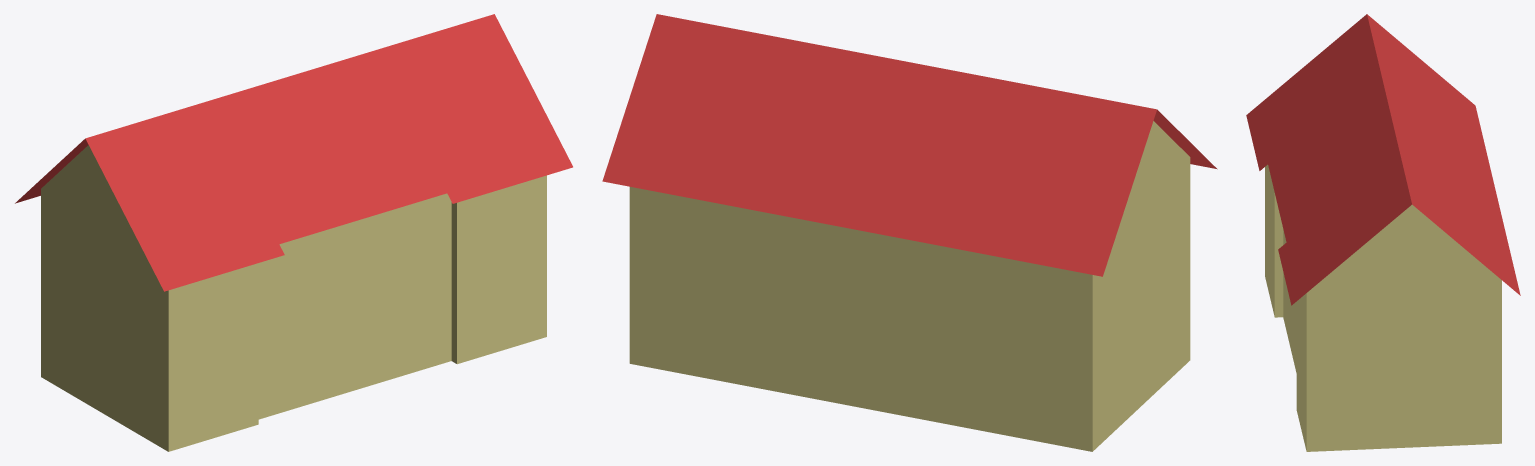
3 views of the same model, side by side, from view 1: azimuth 30°, elevation 25°; view 2: azimuth 150°, elevation 25°; view 3: azimuth 270°, elevation 25° (orthographic). The views are drawn at different scales.
Bounding box in the file's own units: 27.9 × 16.16 × 16.26.
